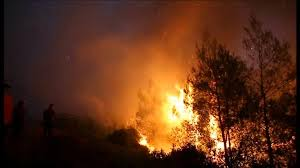fire: (136, 78, 223, 150)
smoke: (1, 1, 103, 98)
